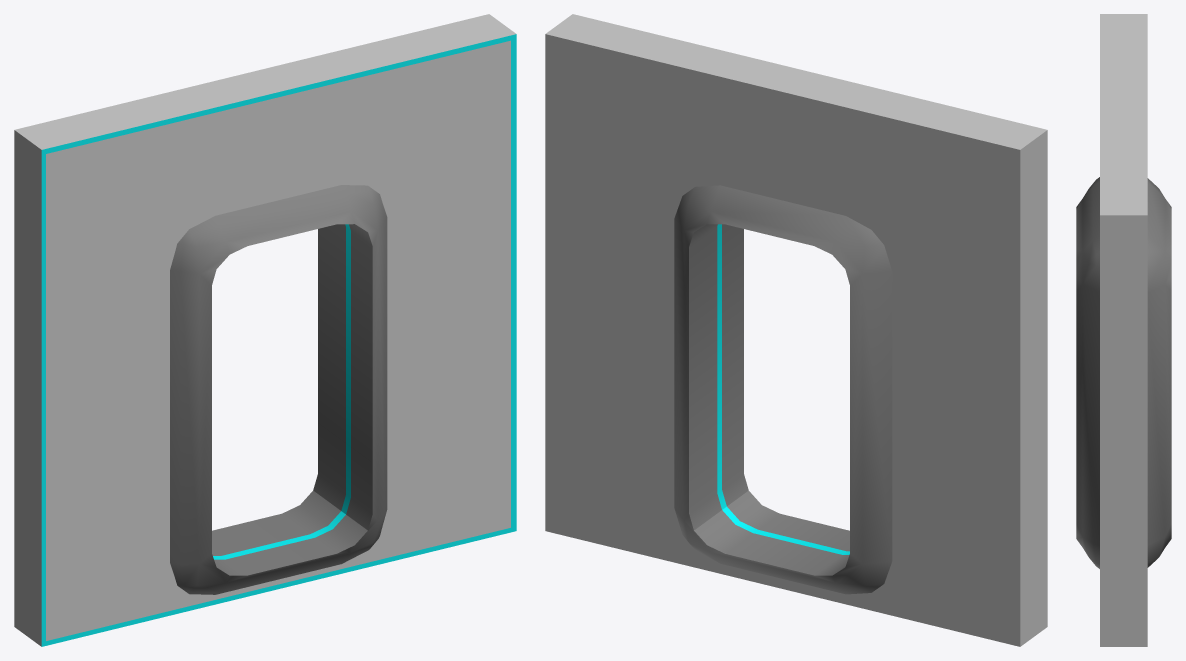
Rendered from W_Gate_001.fbx.
3 renders of one model, left to right at view 1: azimuth 30°, elevation 25°; view 2: azimuth 150°, elevation 25°; view 3: azimuth 270°, elevation 25°, orthographic. The views are drawn at different scales.
Visible parts, largest first — view 1: Gate_001; view 2: Gate_001; view 3: Gate_001.
Part boxes in pixels (box(x1,y1,x2,y2)): Gate_001: box(14, 14, 516, 646); Gate_001: box(545, 14, 1047, 646); Gate_001: box(1076, 14, 1171, 646).
Bounding box in the file's own units: 300 × 300 × 60.
